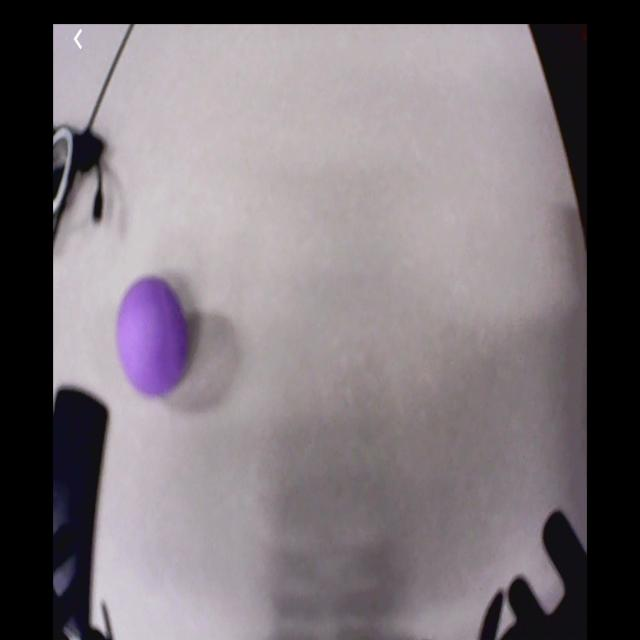ball: (117, 276, 187, 392)
